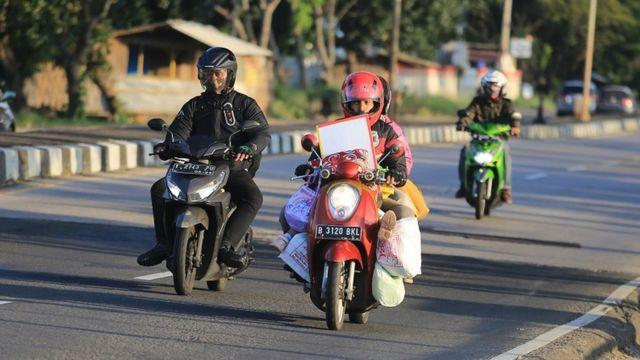helm: (342, 73, 386, 128), (198, 48, 239, 98), (482, 69, 511, 101)
motor: (292, 133, 406, 333), (148, 117, 263, 299), (456, 108, 524, 222)
